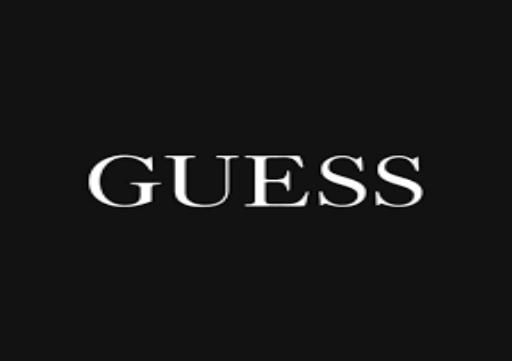GUESS: (86, 150, 425, 210)
